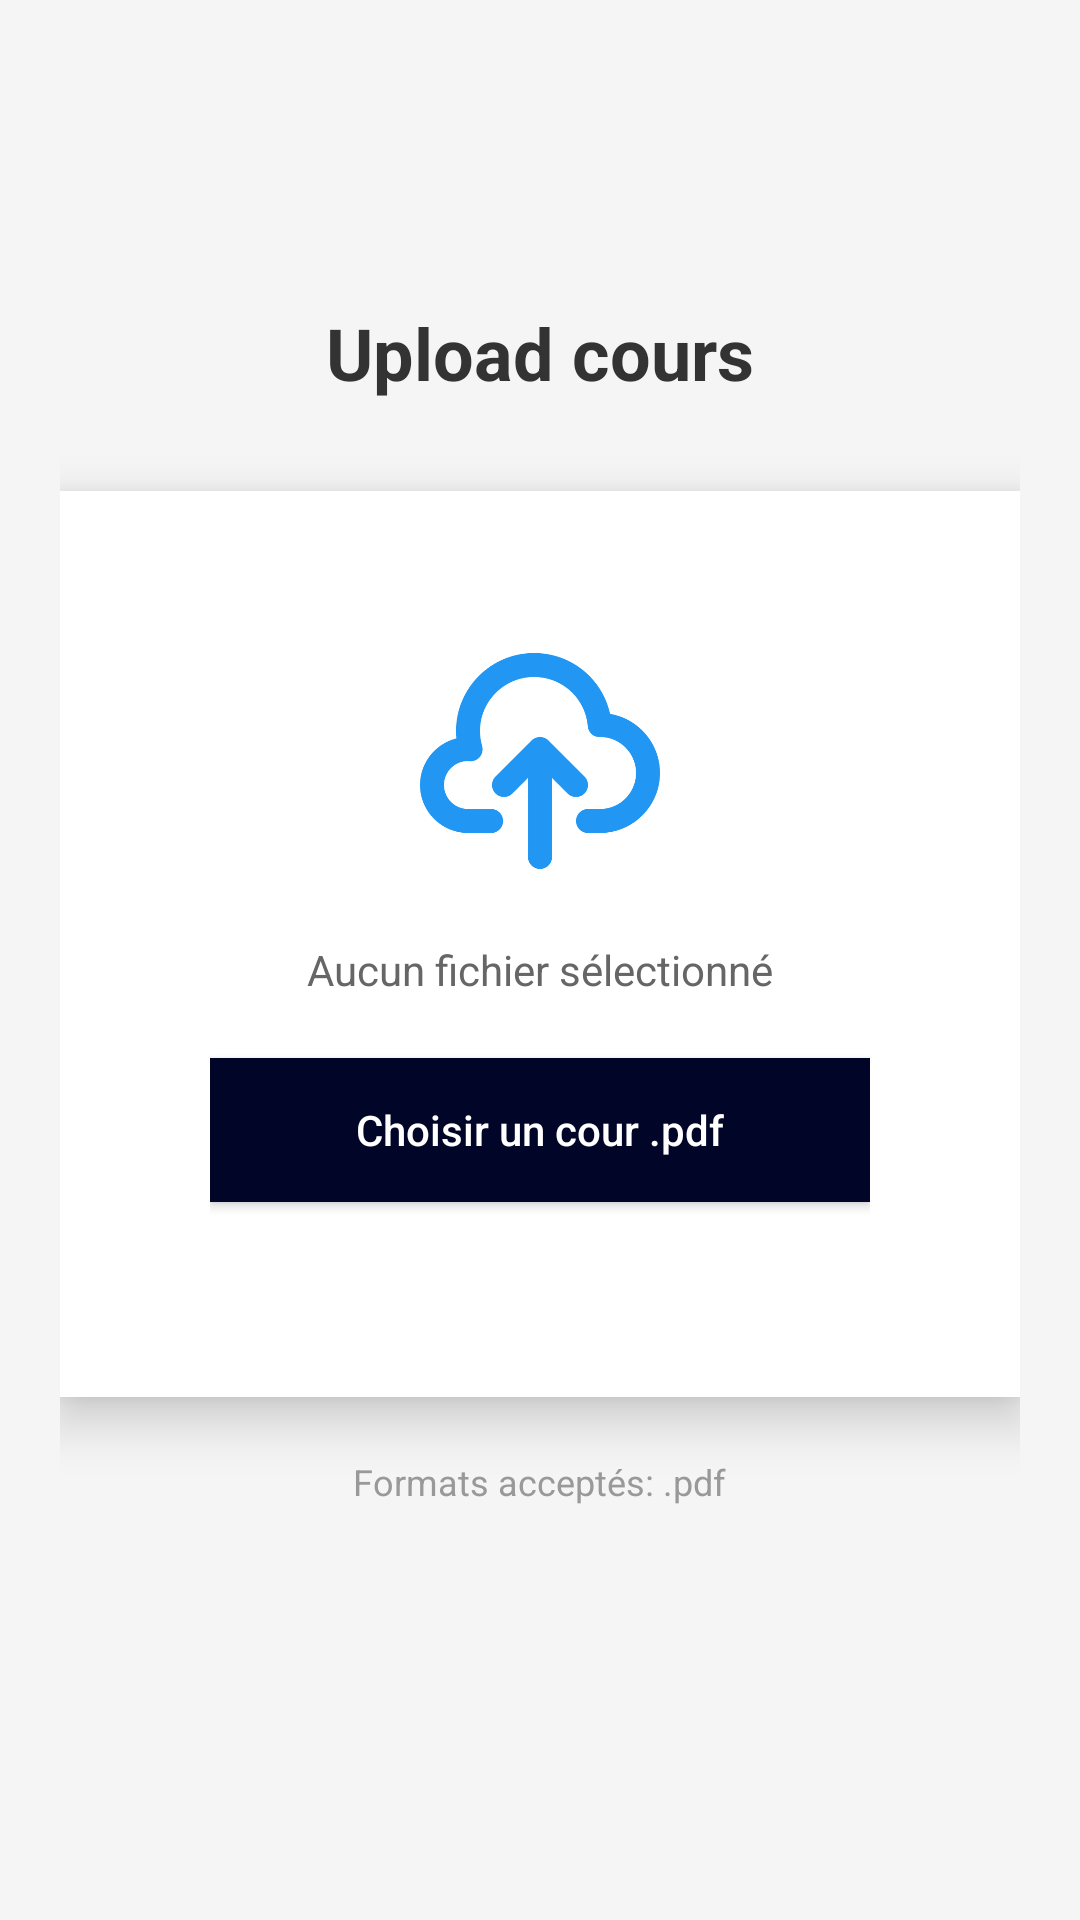

Point at icon controls on the screen. Image size 1080x1920, points as (x=x, y=y).
upload: (x=540, y=761)
